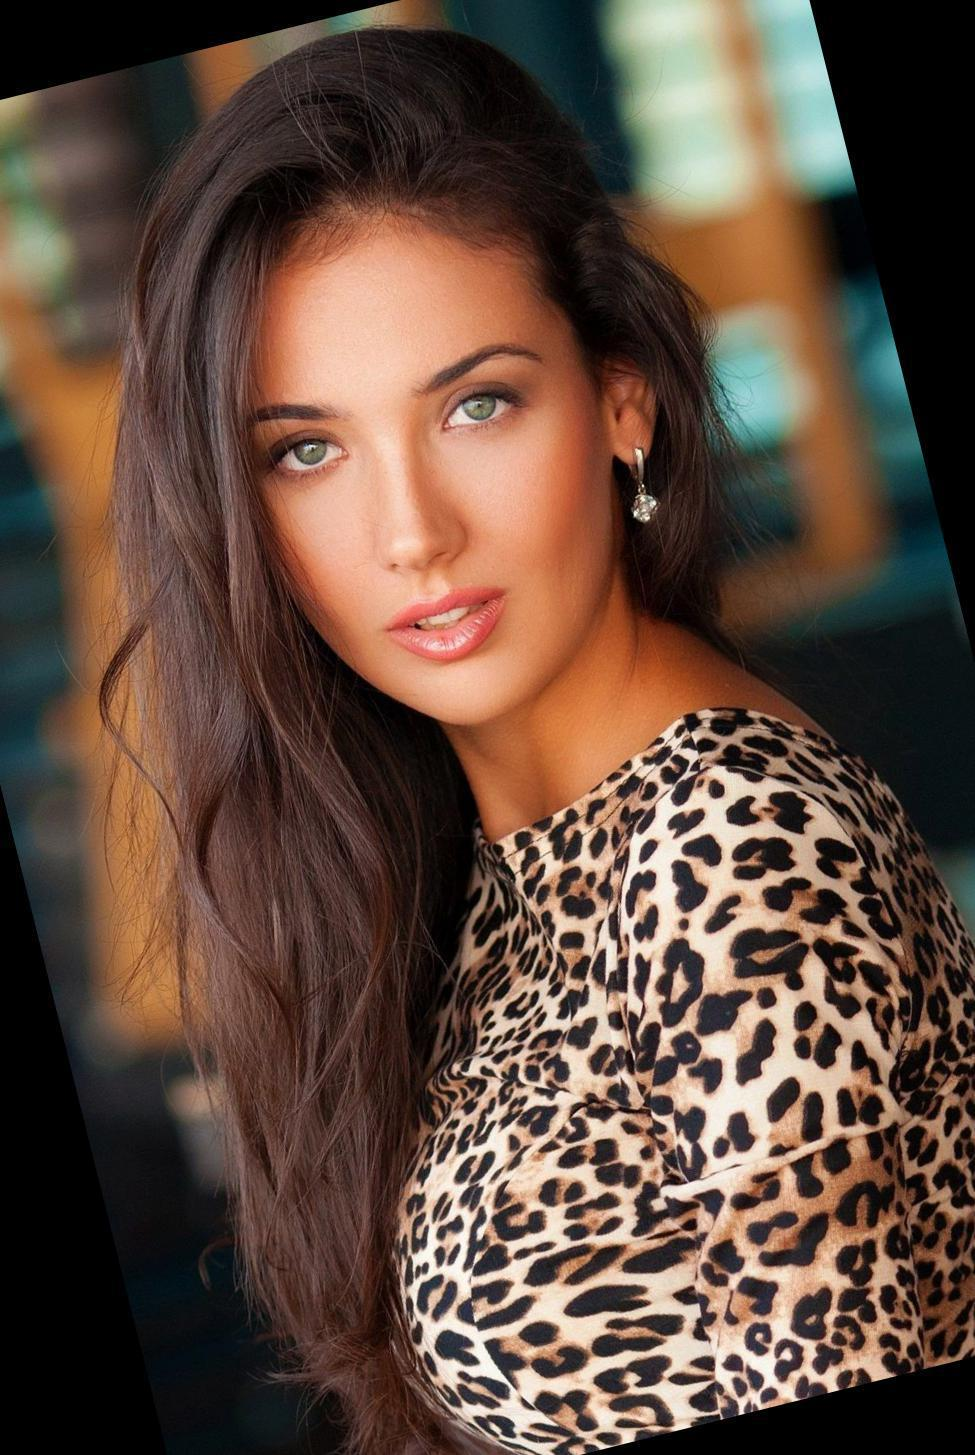Sober: (255, 257, 614, 694)
